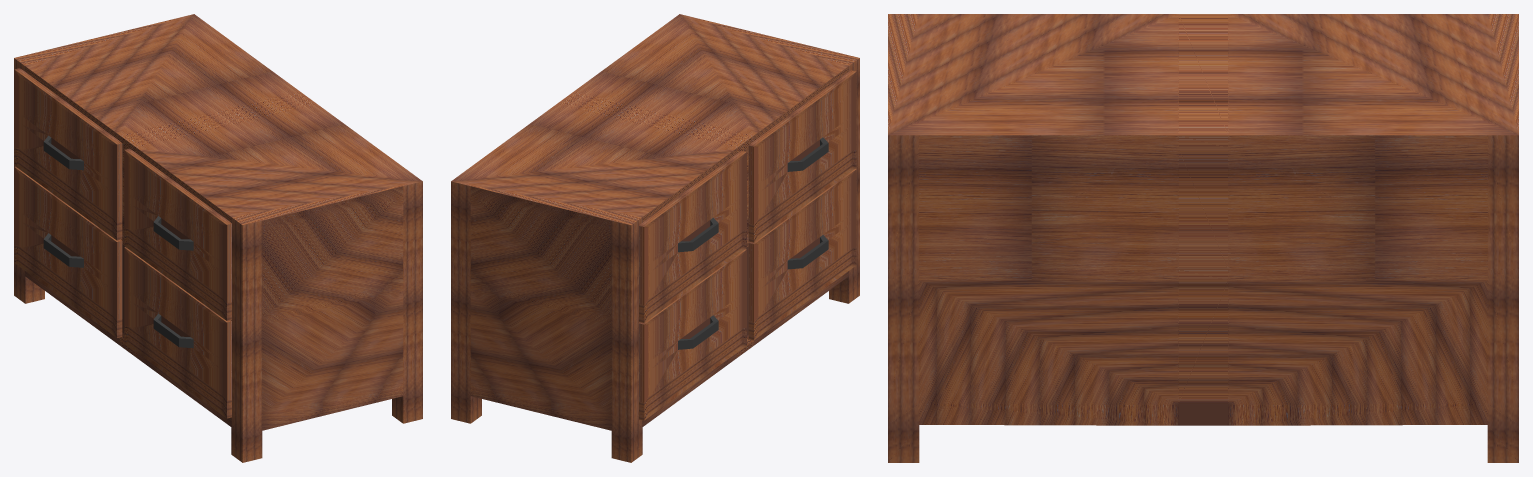
Rendered from Drawer.fbx.
3 renders of one model, left to right at view 1: azimuth 30°, elevation 25°; view 2: azimuth 150°, elevation 25°; view 3: azimuth 270°, elevation 25°, orthographic. The views are drawn at different scales.
Visible parts, largest first — view 1: Drawer, TopLShellf, TopRShellf, BotLShelf, BotRShelf; view 2: Drawer, TopRShellf, TopLShellf, BotRShelf, BotLShelf; view 3: Drawer.
Part boxes in pixels (bbox=[...]): Drawer: bbox=[14, 14, 422, 462]; TopLShellf: bbox=[14, 68, 122, 240]; TopRShellf: bbox=[124, 148, 231, 320]; BotLShelf: bbox=[14, 166, 122, 337]; BotRShelf: bbox=[124, 247, 231, 418]; Drawer: bbox=[451, 14, 859, 462]; TopRShellf: bbox=[748, 70, 856, 242]; TopLShellf: bbox=[639, 150, 746, 322]; BotRShelf: bbox=[748, 169, 856, 340]; BotLShelf: bbox=[639, 249, 746, 420]; Drawer: bbox=[888, 14, 1518, 462].
Size of the model in its own units: 597 by 690 by 1205.
